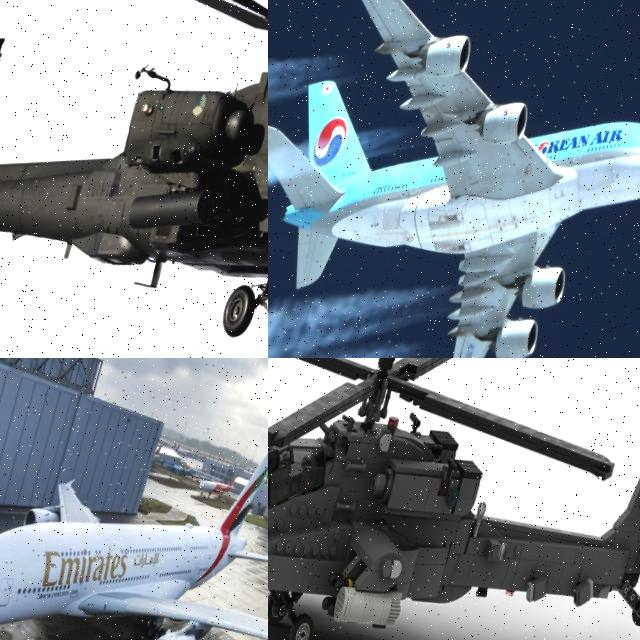A380: (268, 0, 640, 358), (0, 368, 268, 640)
Apache: (268, 358, 640, 640), (0, 0, 268, 358)
